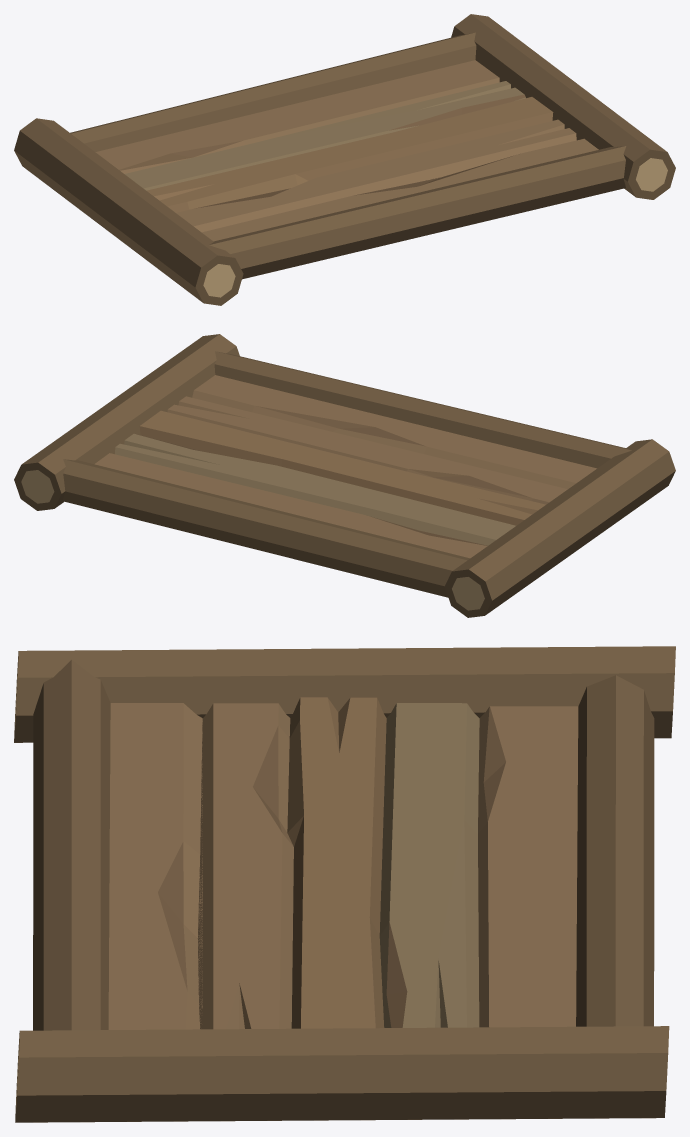
The model's file is rpgpp_ag_wall_platform_02b.fbx.
3 renders of one model, top to bottom at view 1: azimuth 30°, elevation 25°; view 2: azimuth 150°, elevation 25°; view 3: azimuth 270°, elevation 25°, orthographic. The views are drawn at different scales.
Visible parts, largest first — view 1: rpgpp_ag_wall_platform_02b; view 2: rpgpp_ag_wall_platform_02b; view 3: rpgpp_ag_wall_platform_02b.
Boxes of the visible parts, x1,y1,x2,y2 form: rpgpp_ag_wall_platform_02b: (14, 14, 675, 305); rpgpp_ag_wall_platform_02b: (14, 334, 675, 617); rpgpp_ag_wall_platform_02b: (14, 646, 675, 1122).
Size of the model in its own units: 4.01 by 0.4233 by 2.65.
